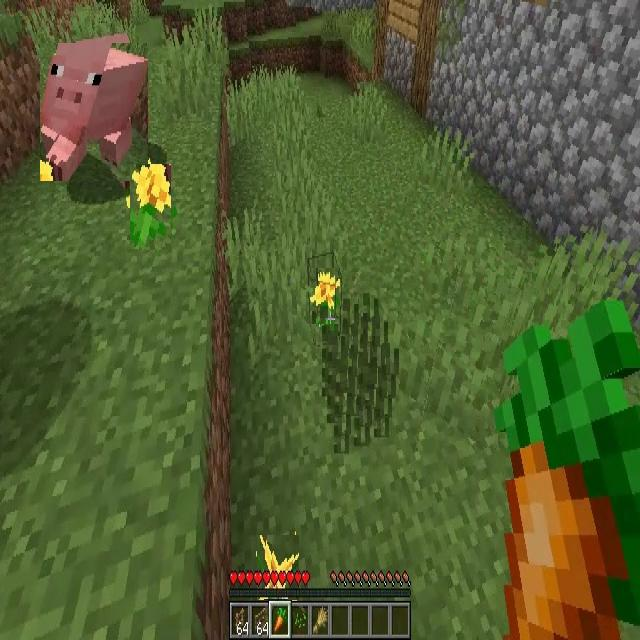flower: (130, 164, 171, 250), (257, 535, 299, 600), (310, 268, 340, 324)
pig: (40, 43, 148, 181)
